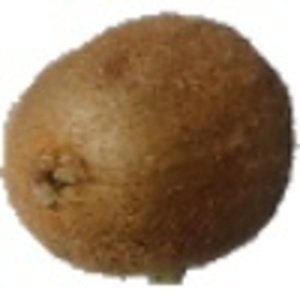kiwi: (1, 11, 300, 288)
